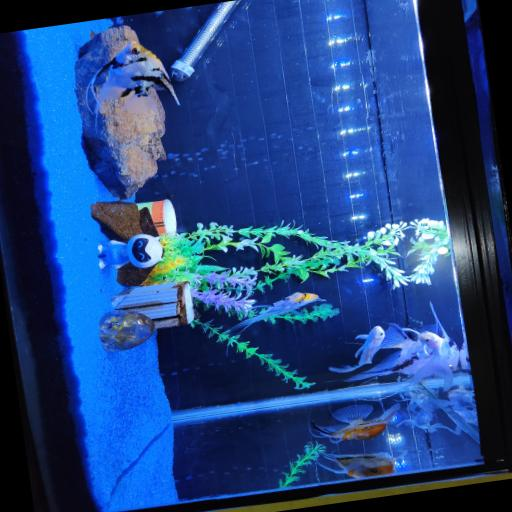Fish: (85, 41, 178, 115), (344, 323, 428, 381), (403, 302, 458, 390), (229, 291, 324, 332), (311, 403, 399, 442), (397, 392, 460, 434), (328, 326, 384, 372), (317, 451, 405, 477)
